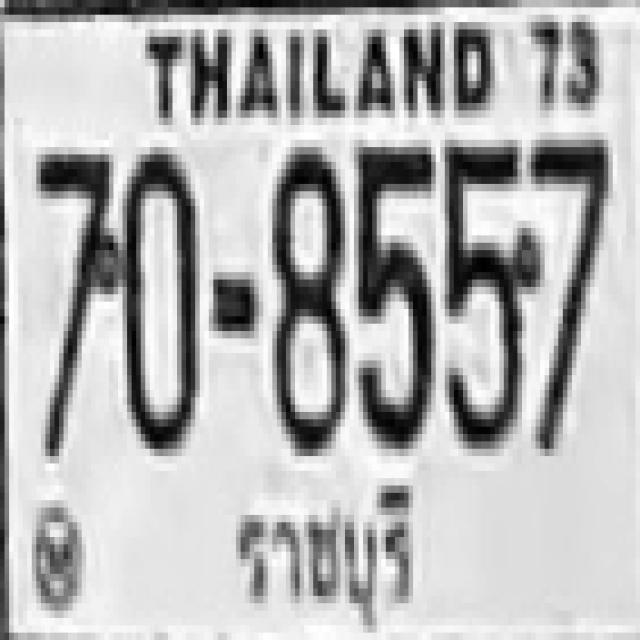0: (118, 147, 195, 442)
5: (440, 136, 536, 445), (354, 140, 431, 441)
7: (32, 144, 113, 452), (526, 132, 604, 449)
8: (270, 140, 343, 449)
Ratchaburi: (228, 477, 429, 636)
